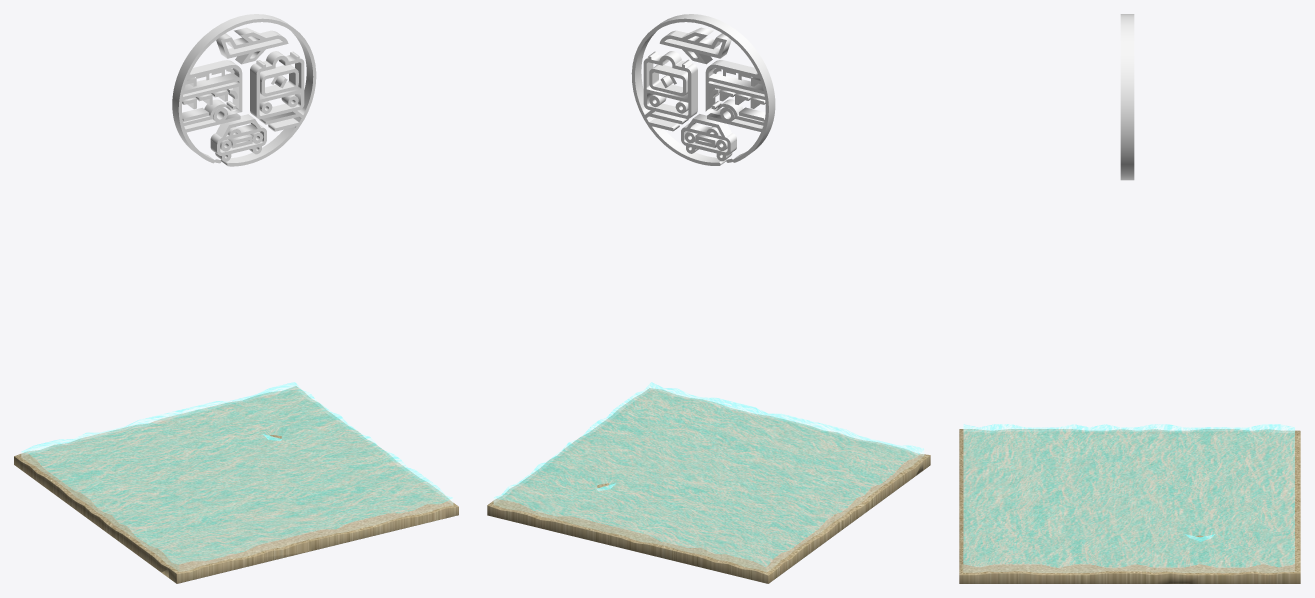
File: water-lower-transport-trans1.glb
The picture shows the model from 3 angles, left to right: view 1: azimuth 30°, elevation 25°; view 2: azimuth 150°, elevation 25°; view 3: azimuth 270°, elevation 25°; orthographic projection. The views are drawn at different scales.
Visible parts, largest first — view 1: Sand, Plane.002_1, Curve.015, Plane.002_0; view 2: Sand, Plane.002_1, Curve.015, Plane.002_0; view 3: Sand, Plane.002_1, Curve.015, Plane.002_0.
Boxes of the visible parts, left/top/right/bottom form: Sand: left=14, top=386, right=458, bottom=583; Plane.002_1: left=21, top=382, right=452, bottom=564; Curve.015: left=172, top=14, right=316, bottom=166; Plane.002_0: left=21, top=439, right=453, bottom=571; Sand: left=487, top=388, right=930, bottom=583; Plane.002_1: left=494, top=382, right=923, bottom=566; Curve.015: left=631, top=14, right=775, bottom=165; Plane.002_0: left=493, top=449, right=924, bottom=571; Sand: left=959, top=429, right=1300, bottom=583; Plane.002_1: left=963, top=424, right=1294, bottom=567; Curve.015: left=1120, top=14, right=1134, bottom=180; Plane.002_0: left=963, top=424, right=1294, bottom=572.
Size of the model in its own units: 107 by 171 by 107.
4 materials, 2 textured.
